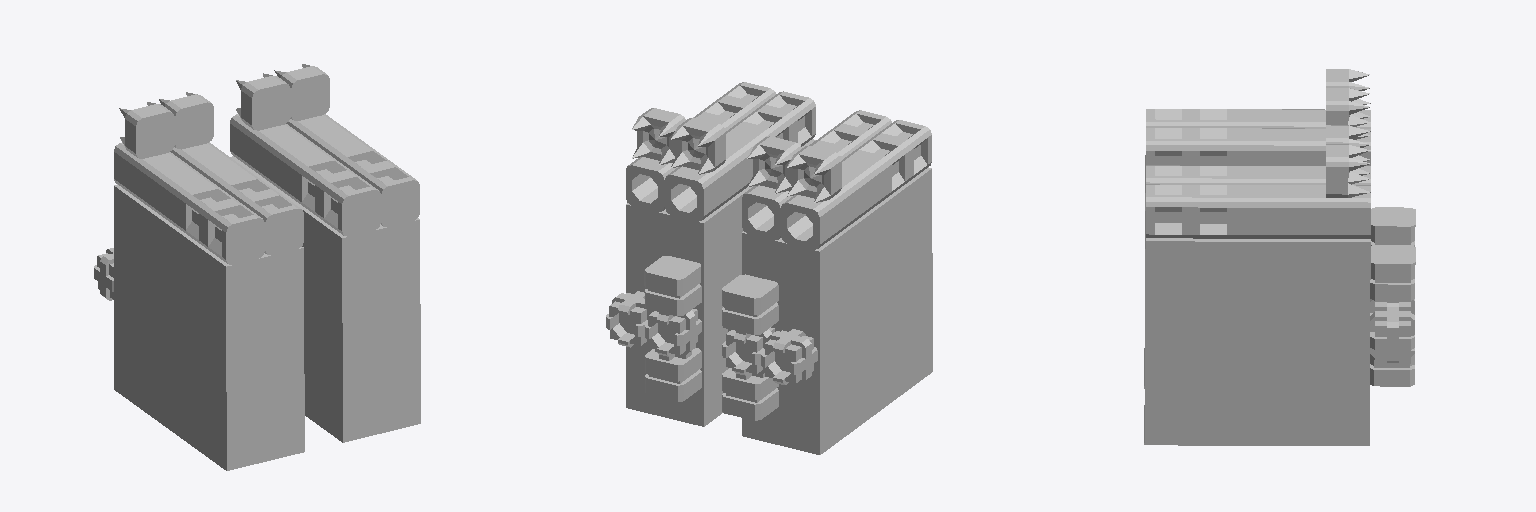
File: basic1.obj
3 views of the same model, side by side, from view 1: azimuth 30°, elevation 25°; view 2: azimuth 150°, elevation 25°; view 3: azimuth 270°, elevation 25° (orthographic).
Visible parts, largest first — view 1: body; view 2: body; view 3: body.
Part boxes in pixels (left/top/right/bottom): body: left=94, top=64, right=420, bottom=470; body: left=606, top=82, right=932, bottom=454; body: left=1144, top=69, right=1415, bottom=445.
Size of the model in its own units: 1.28 by 1.8 by 1.54.